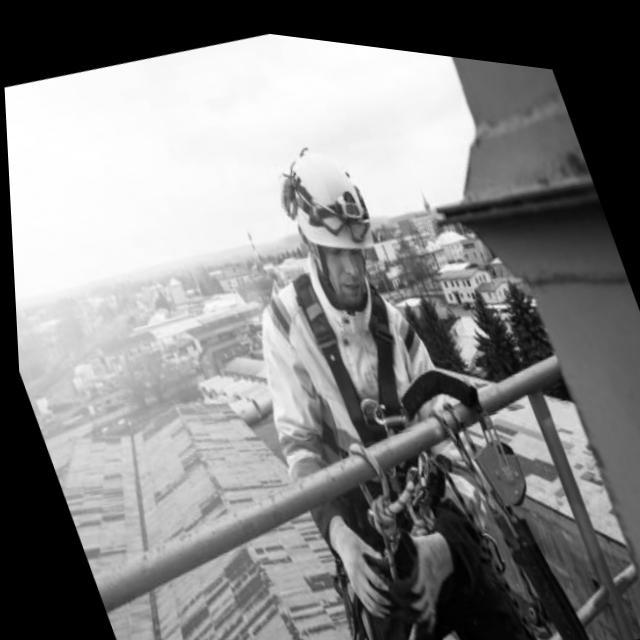belt: (256, 231, 490, 611)
